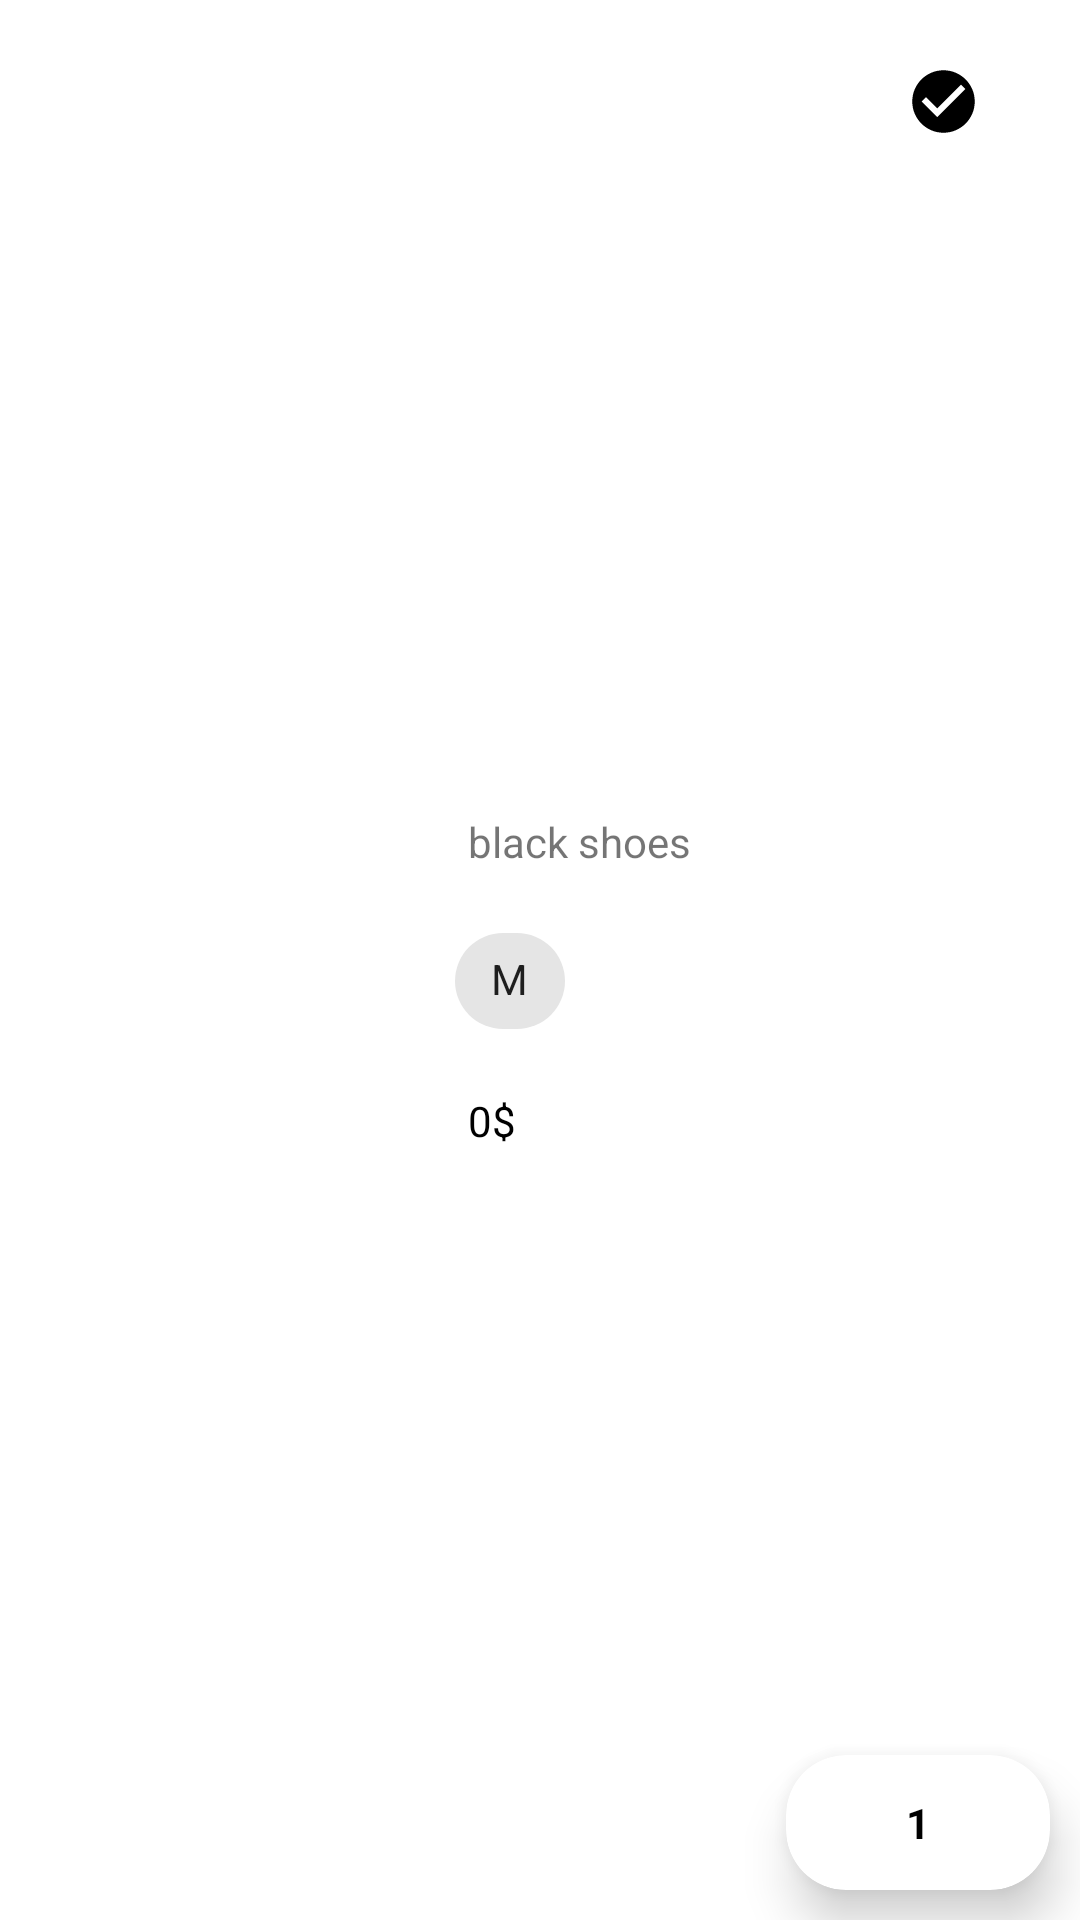

Screen size 1080 x 1920. Icon name, then its box in pixels as (x1, y1, x2, y2):
custom check: (912, 70, 975, 133)
